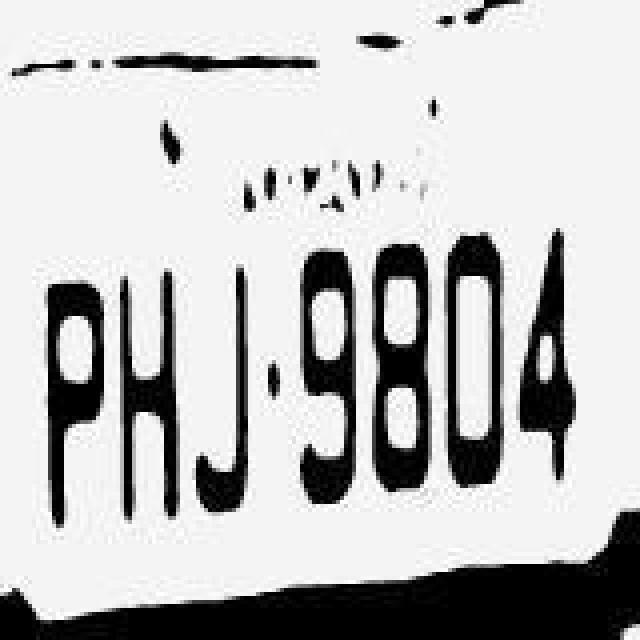4: (510, 216, 586, 480)
8: (364, 226, 436, 494)
9: (286, 242, 362, 510)
H: (108, 272, 188, 528)
J: (192, 260, 264, 524)
O: (440, 224, 512, 496)
P: (32, 278, 112, 546)
